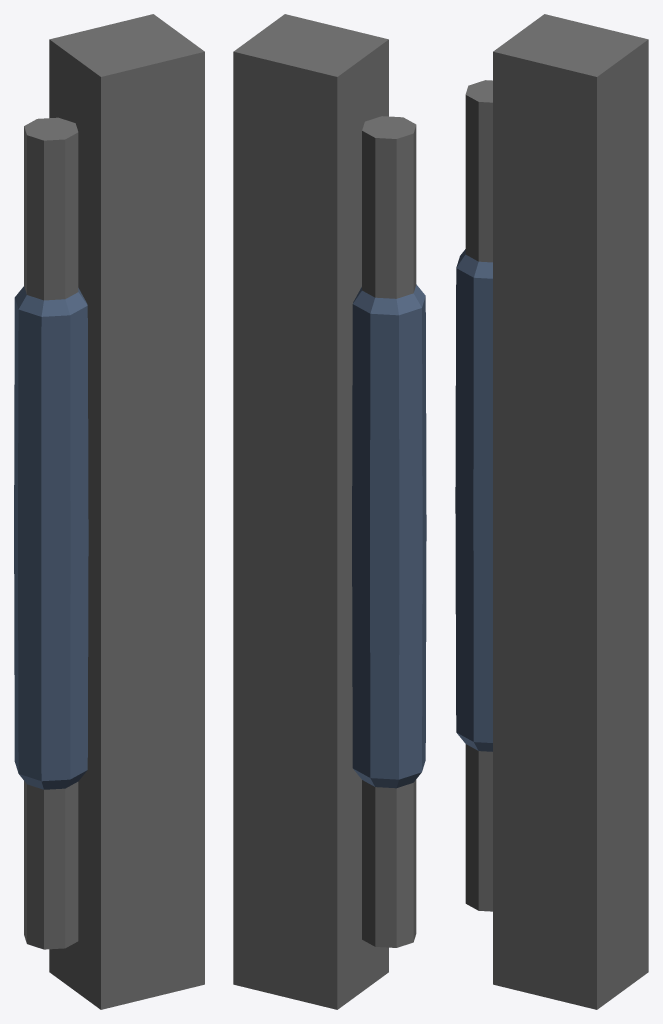
Rendered from SM_wall1.fbx.
3 views of the same model, side by side, from view 1: azimuth 30°, elevation 25°; view 2: azimuth 150°, elevation 25°; view 3: azimuth 330°, elevation 25° (orthographic).
Visible parts, largest first — view 1: pCube116; view 2: pCube116; view 3: pCube116.
Boxes of the visible parts, box(x1,y1,x2,y2) form: pCube116: box(14, 14, 204, 1009); pCube116: box(233, 14, 426, 1009); pCube116: box(455, 14, 648, 1009).
Bounding box in the file's own units: 72.88 × 40 × 400.
